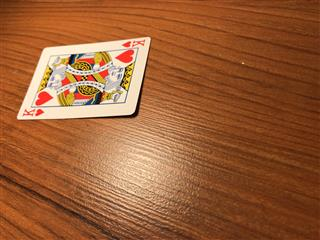KingOfHearts: (16, 36, 151, 120)
